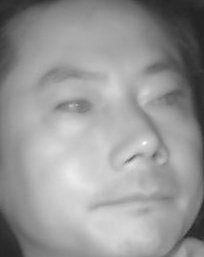eye: (53, 94, 95, 118), (145, 88, 185, 112)
mouth: (91, 180, 174, 219)
